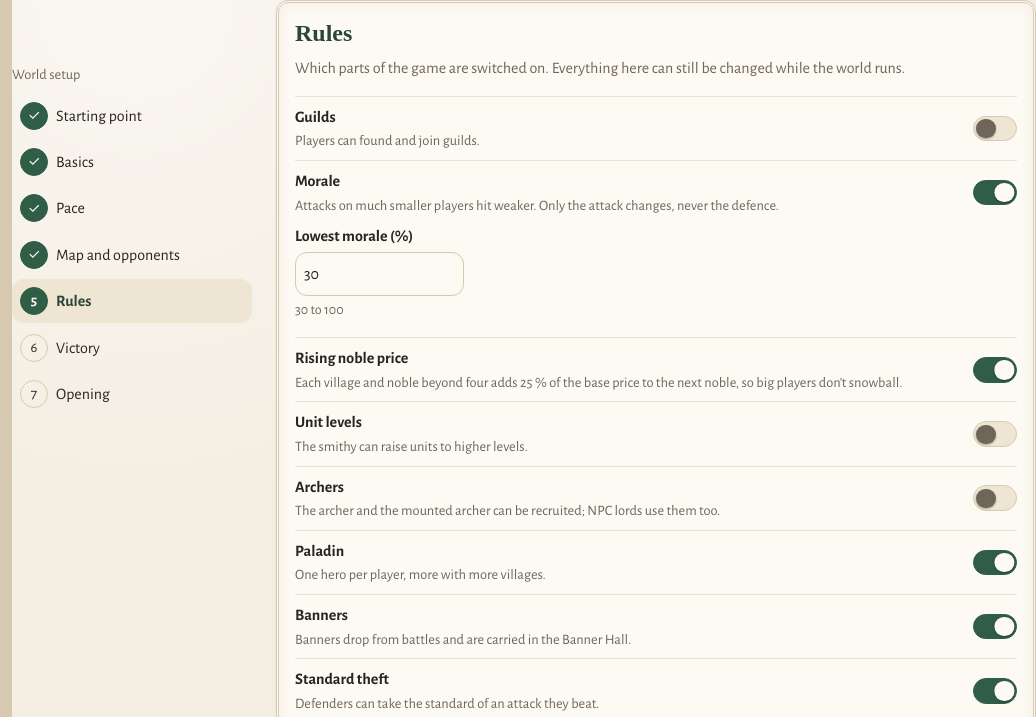
Test: SetupPage: the 1.6 settings › the rules step has archers, morale and the rising noble price
expect the switch labelled "Archers" is not checked: met, box 973,485 -> 1017,511
expect the switch labelled "Morale" is checked: met, box 973,180 -> 1017,205
Click the switch labelled "Rising noble price" at x=995, y=370, box 973,357 -> 1017,383
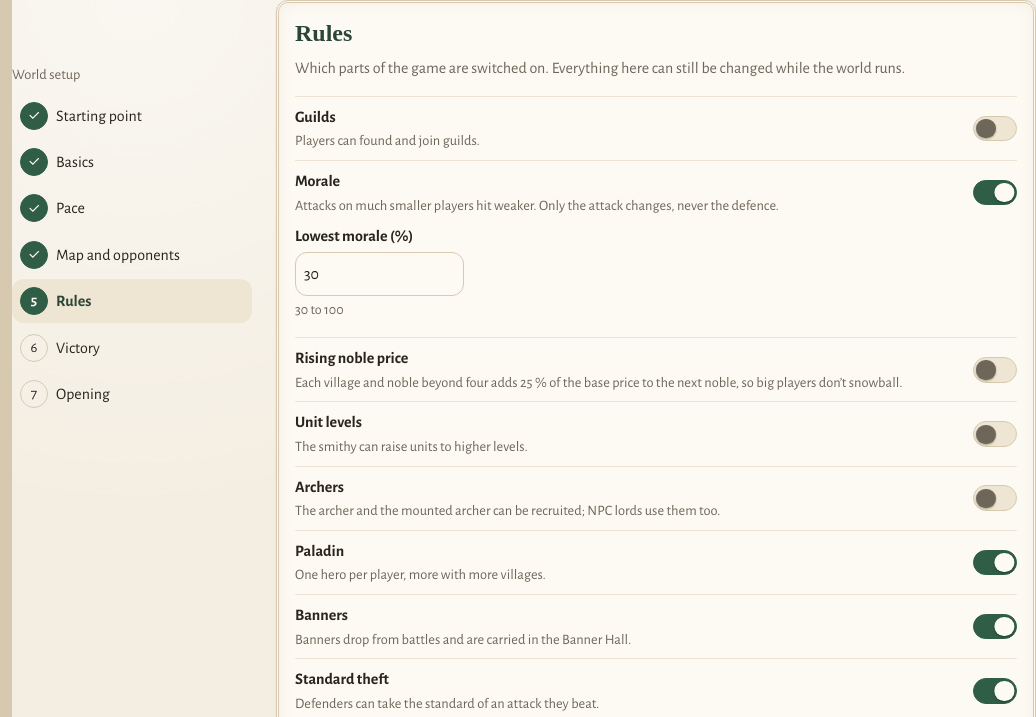
expect the switch labelled "Rising noble price" is not checked: met
Click the switch labelled "Rising noble price" at x=995, y=370, box 973,357 -> 1017,383
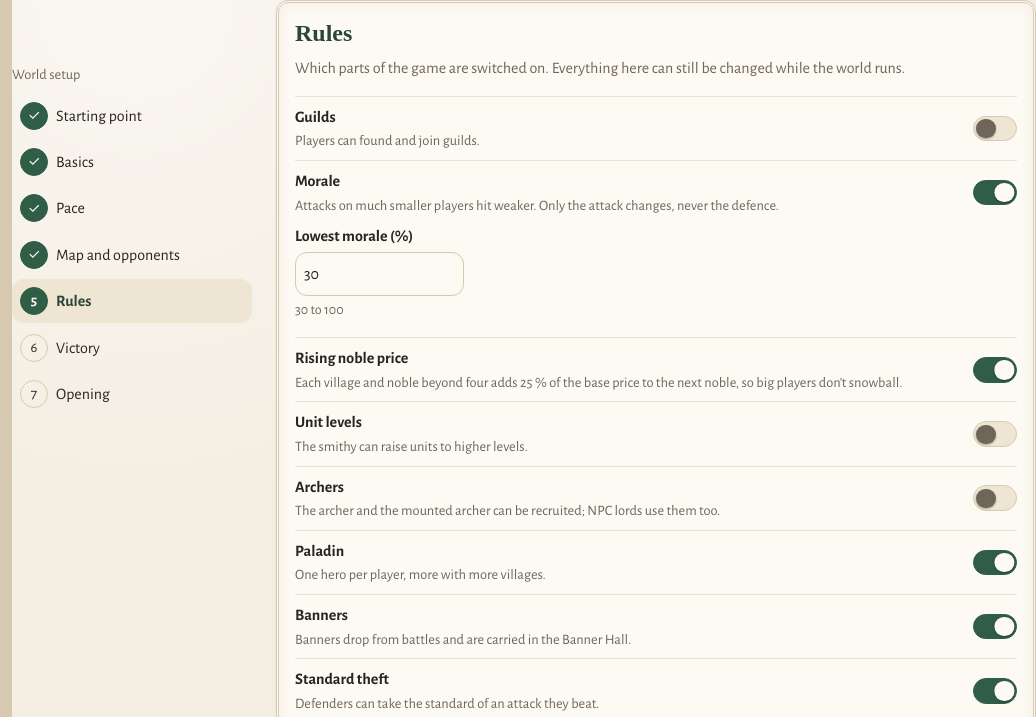
expect the text "adds 25 % of the base price" is shown: met, box 295,375 -> 902,390
expect the switch labelled "Guild mates start" is not shown: met
Click the switch labelled "Guilds Players can found and join guilds." at x=995, y=128, box 973,116 -> 1017,141
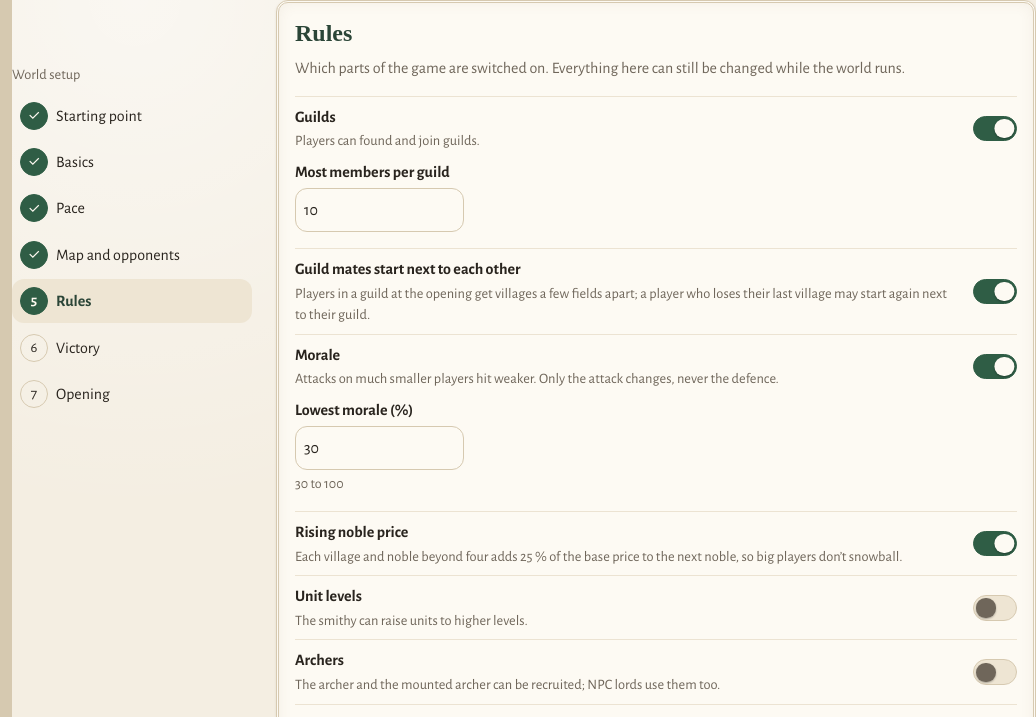
expect the switch labelled "Guild mates start" is checked: met, box 973,279 -> 1017,304
